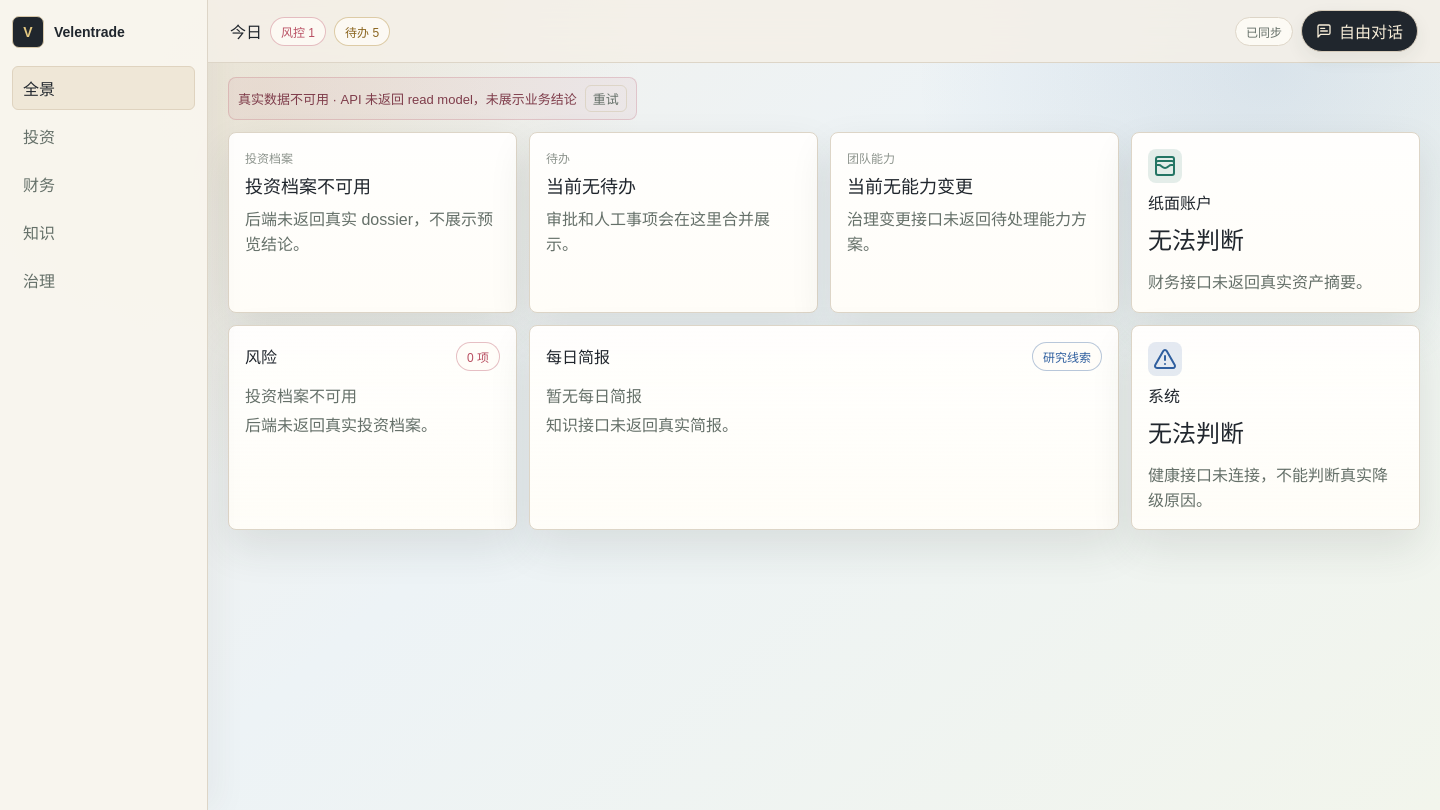
Test case: WI-004 workbench interactions › creates a request brief through the API and confirms it through the confirmation endpoint
Click the button "自由对话".
click(1360, 31)  # box [1301,10,1418,52]
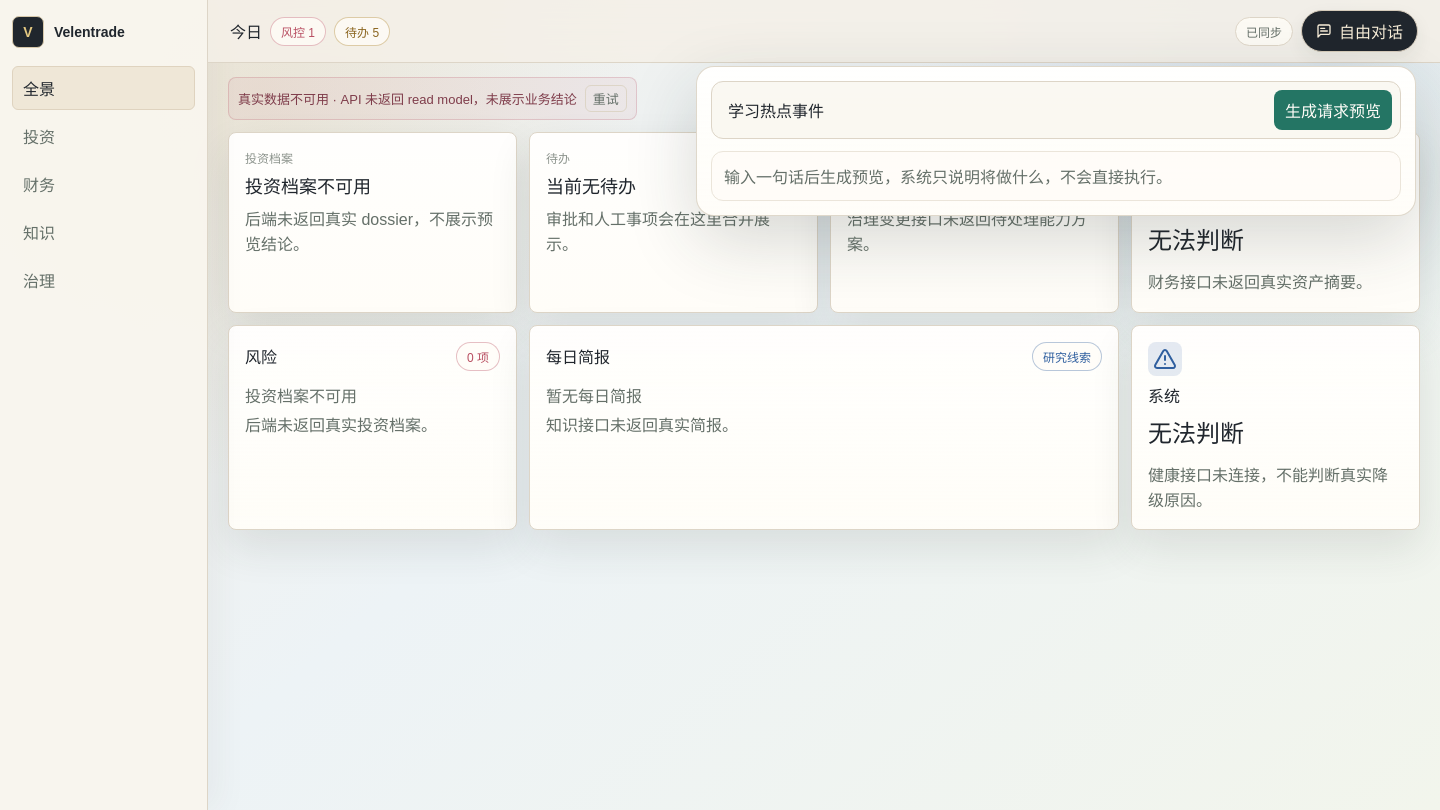
Click the button "生成请求预览".
click(1333, 110)  # box [1274,90,1392,130]
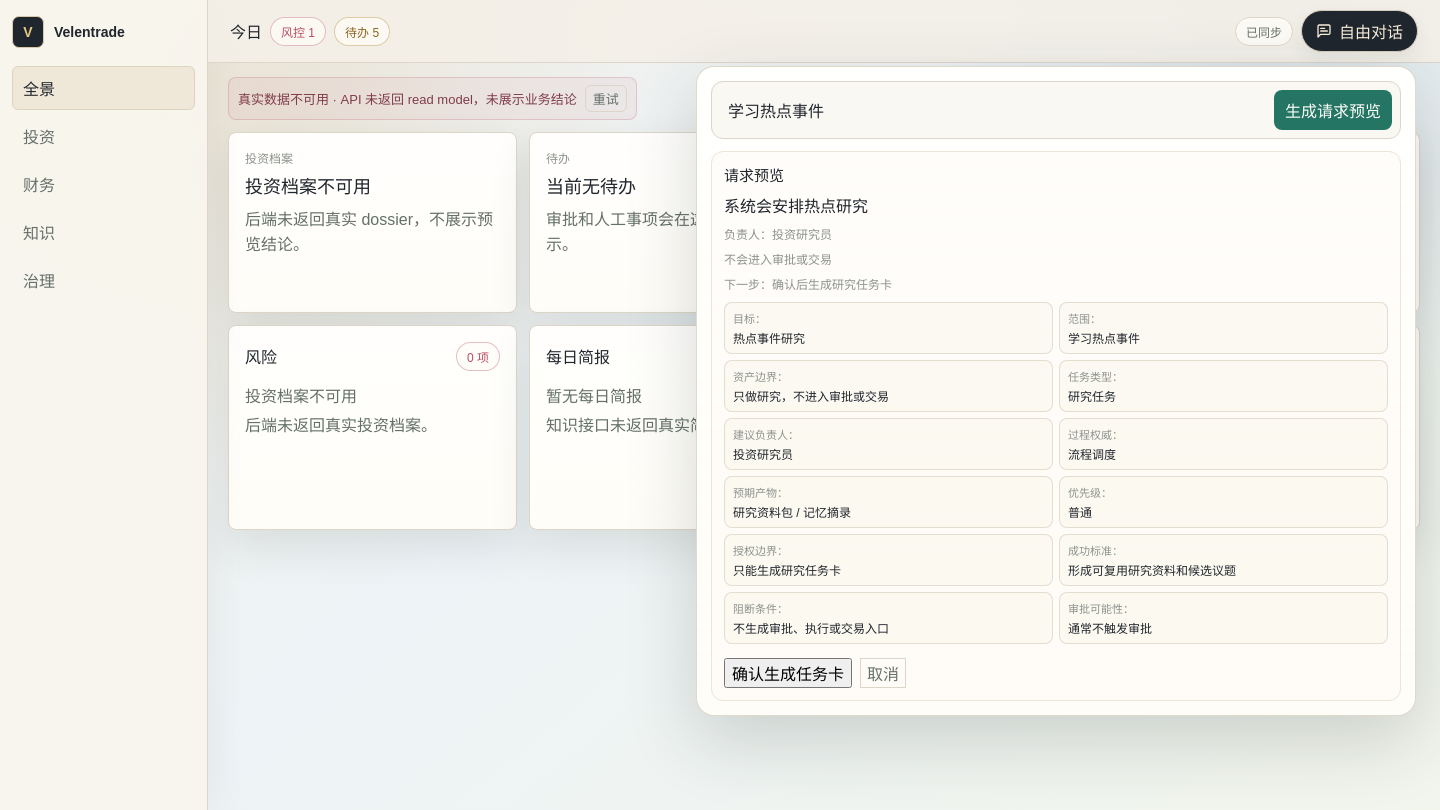
Click the button "确认生成任务卡".
click(788, 673)  # box [724,658,852,688]
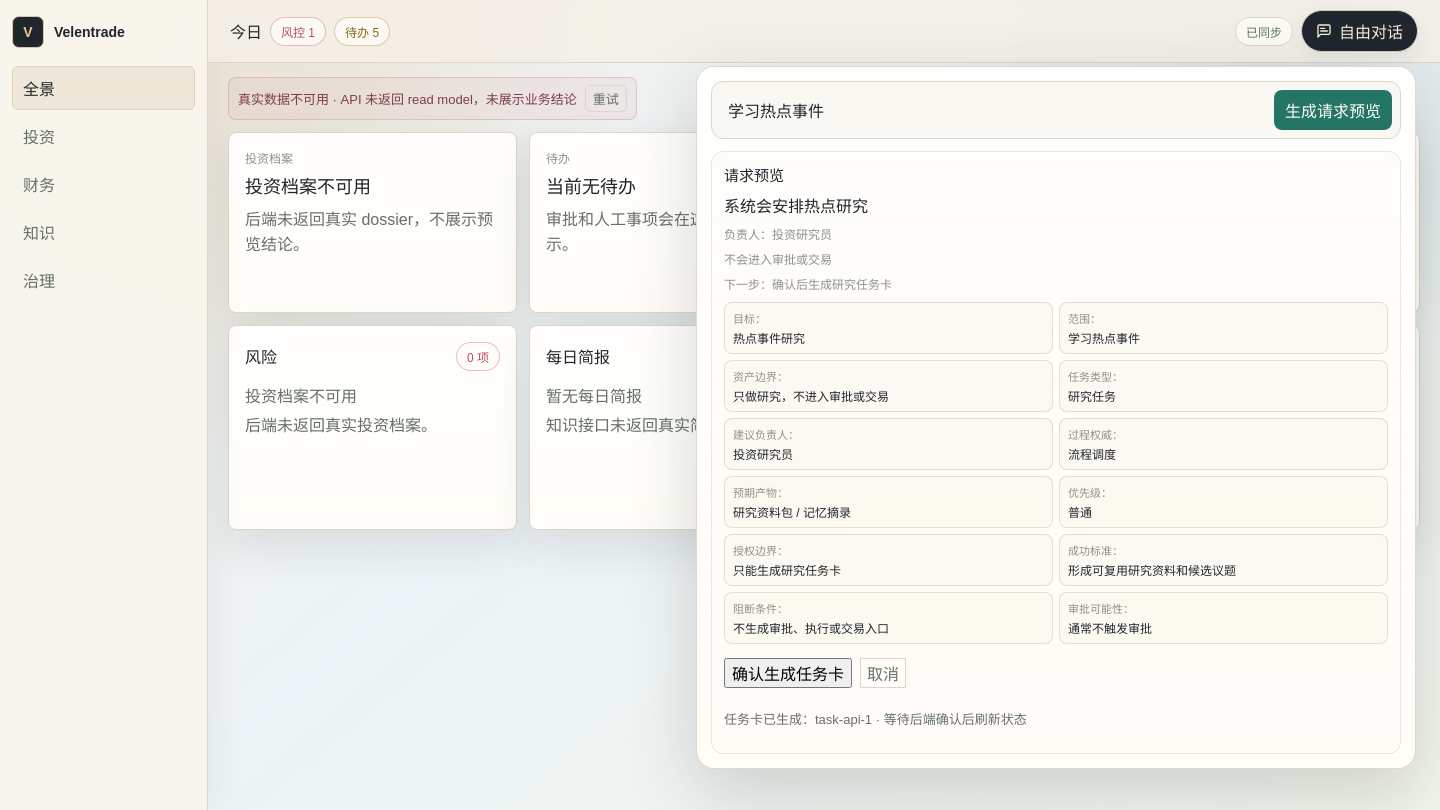
Expected: the text "任务卡已生成：task-api-1" is shown, [724,712,872,727]
